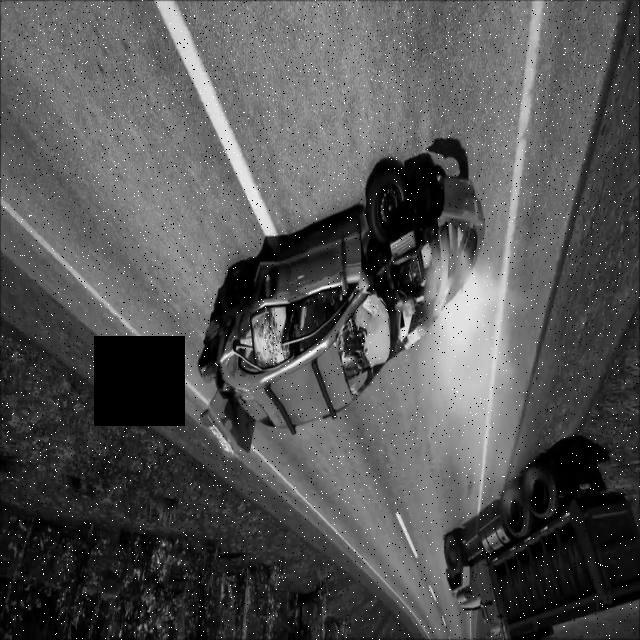severe: (196, 151, 490, 463)
